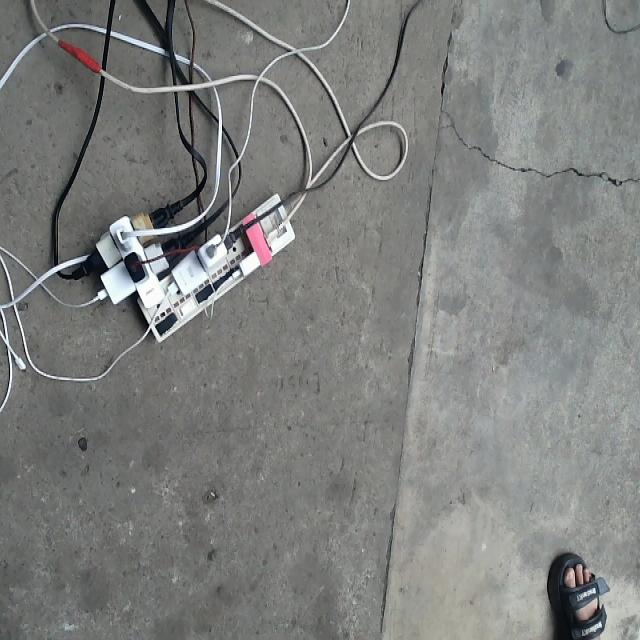-: (66, 191, 296, 341)
